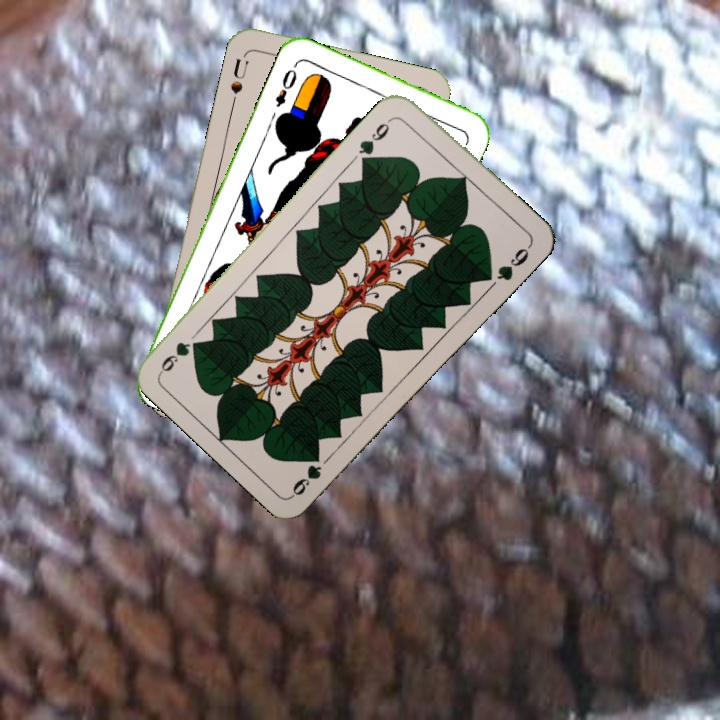EO: (271, 65, 300, 110)
G9: (354, 113, 397, 164), (288, 448, 324, 499)
SU: (226, 55, 251, 108)
